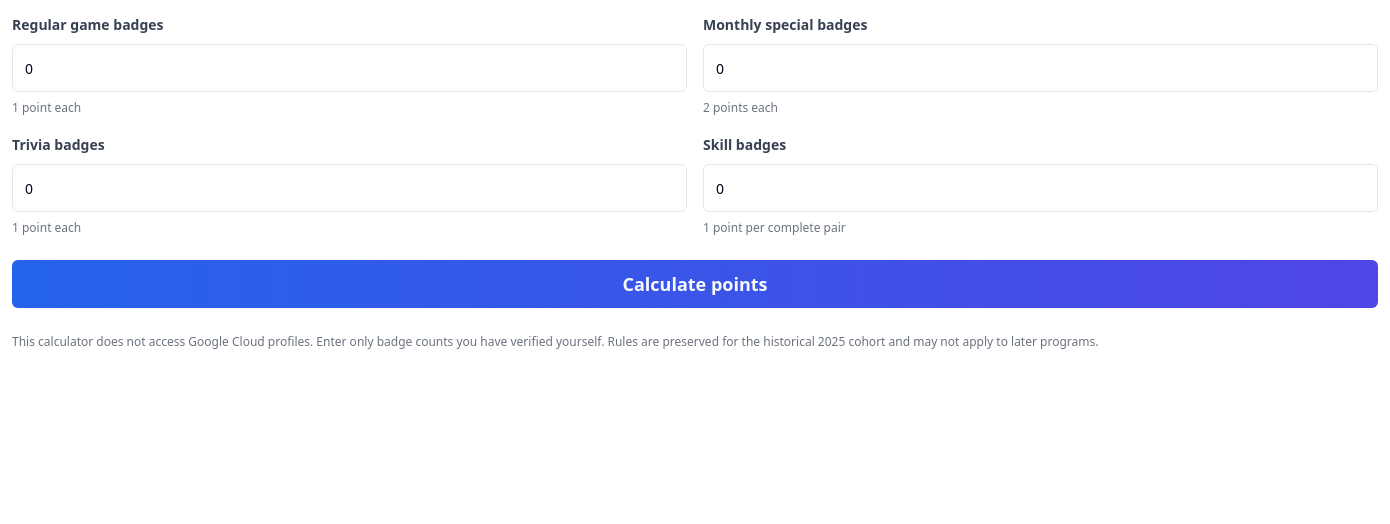
Test: Arcade points formula › calculates from accessible form controls
Replace the text in the number field labelled "Regular game badges" with "2" at (350, 68), box [12,44,687,92]
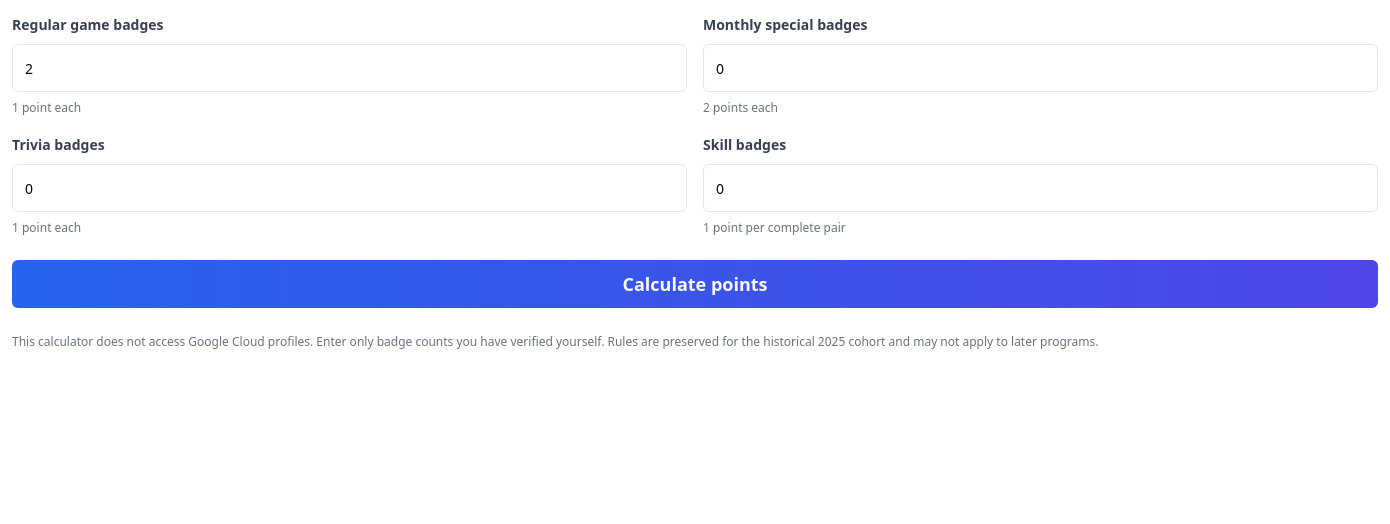
Replace the text in the number field labelled "Monthly special badges" with "1" at (1040, 68), box [703,44,1378,92]
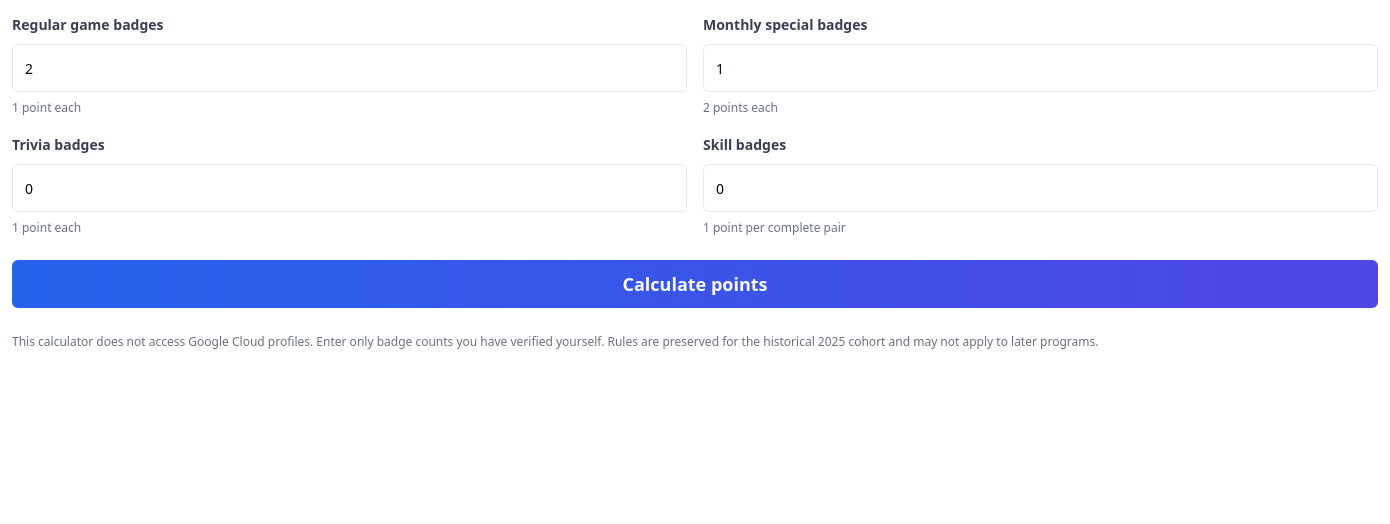
Replace the text in the number field labelled "Trivia badges" with "3" at (350, 188), box [12,164,687,212]
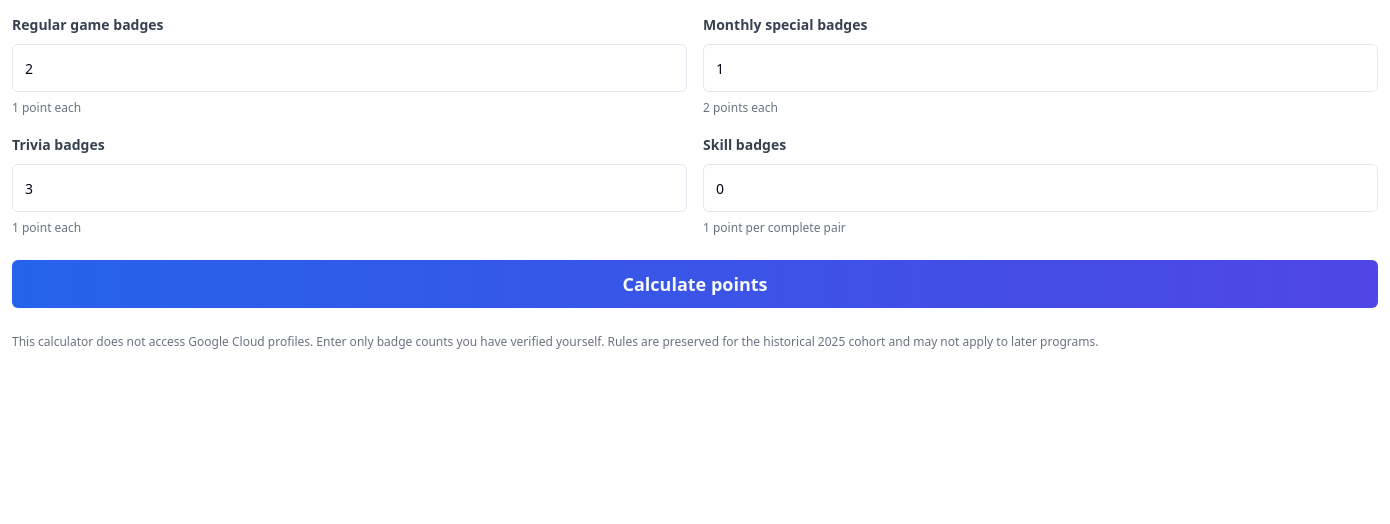
Replace the text in the number field labelled "Skill badges" with "5" at (1040, 188), box [703,164,1378,212]
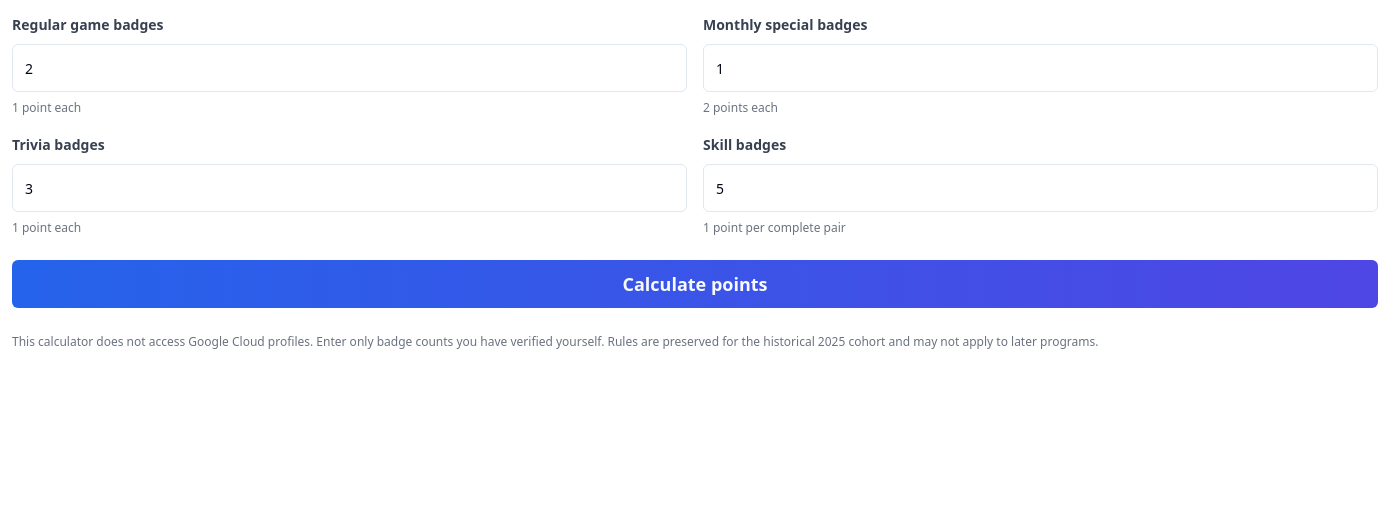
Click the button "Calculate points" at (695, 284), box [12,260,1378,308]
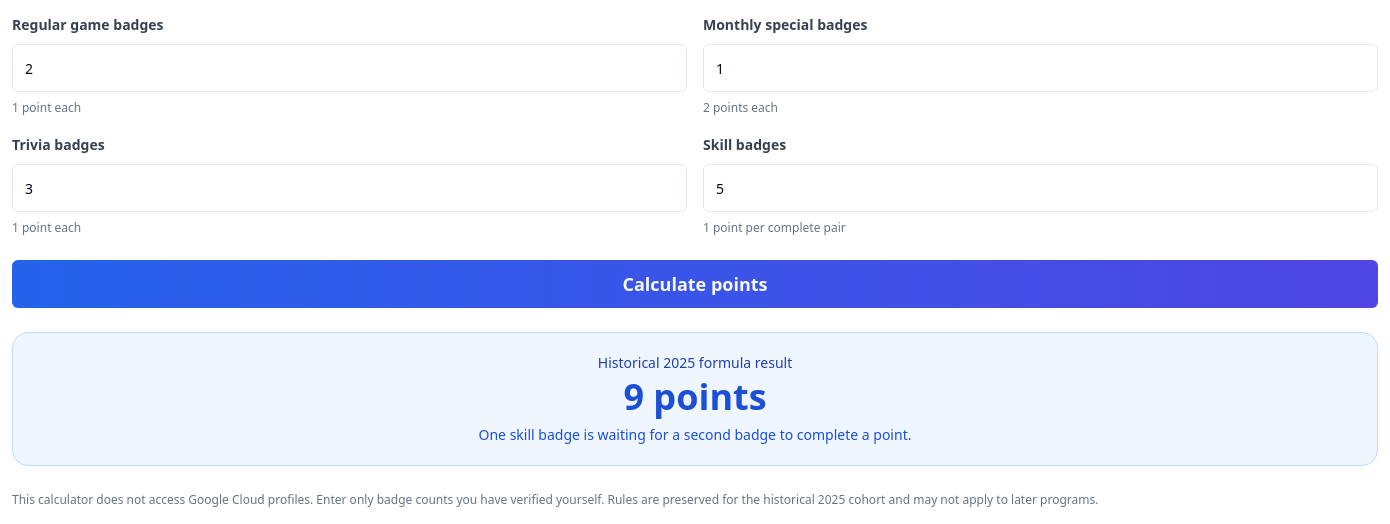
Check: the message shows "9 points", box [12,332,1378,466]
Check: the message shows "waiting for a second badge", box [478,425,911,444]
